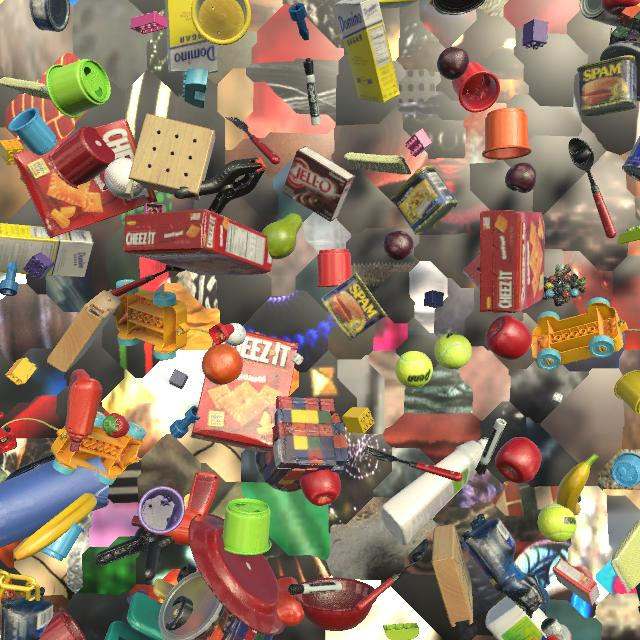ycb_002_master_chef_can: (622, 136, 640, 181), (432, 0, 485, 15)
ycb_003_cracker_box: (13, 119, 157, 238), (191, 331, 299, 452), (123, 209, 273, 276), (480, 210, 545, 313)
ycb_004_sugar_box: (334, 0, 400, 103), (0, 223, 93, 277), (165, 0, 218, 73), (379, 0, 417, 9)
ycb_005_tomato_soup_can: (580, 0, 621, 27)
ycb_007_tuna_fish_can: (29, 0, 70, 32)
ycb_008_pudding_box: (282, 146, 356, 222)
ycb_009_gelatin_box: (552, 558, 600, 606)
ycb_010_potted_meat_can: (390, 165, 458, 235), (321, 272, 388, 340), (577, 55, 637, 116)
ycb_011_banana: (14, 493, 97, 560), (557, 453, 599, 516)
ycb_012_strawberry: (102, 413, 130, 438)
ycb_013_apple: (495, 437, 541, 484), (485, 315, 532, 360), (299, 470, 341, 506), (601, 0, 640, 16)
ycb_016_pear: (262, 213, 302, 259)
ycb_017_orange: (202, 344, 243, 385)
ycb_018_plum: (437, 47, 469, 80), (505, 162, 537, 193), (384, 231, 414, 261)
